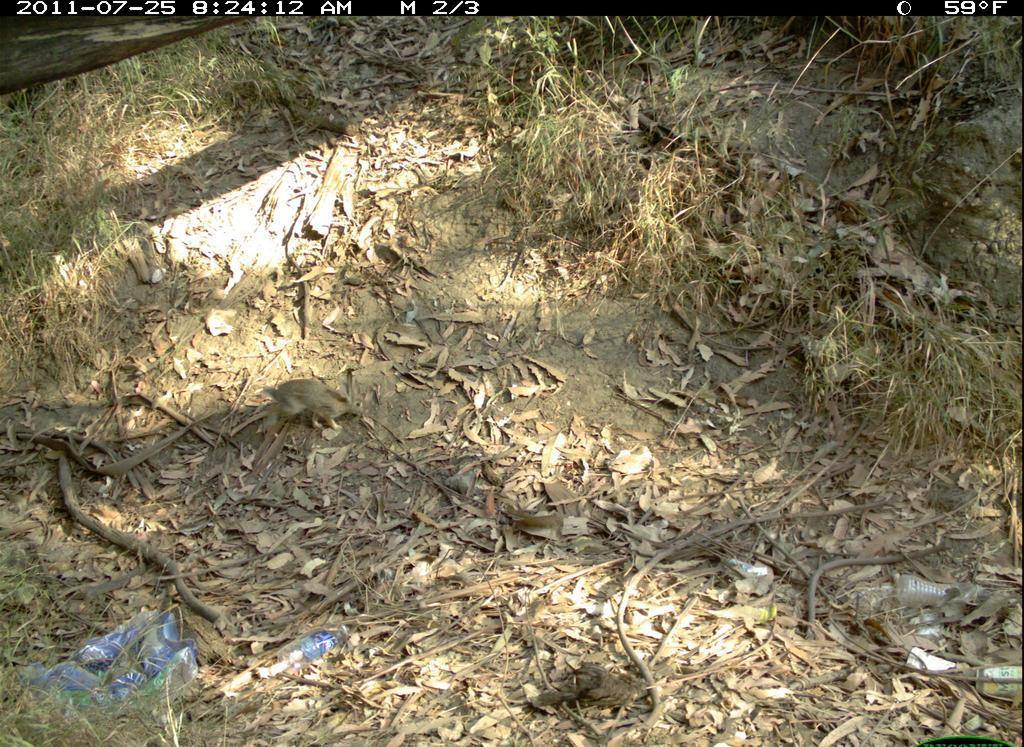rabbit: (260, 365, 373, 437)
